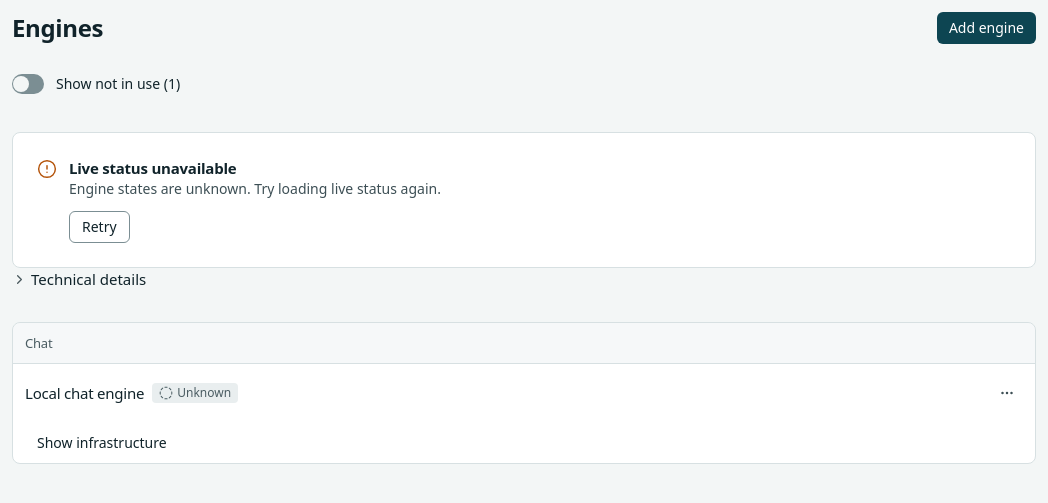
Test: clears the live projection when the status refresh fails
Check: the heading "Live status unavailable" is shown, box 69,158 -> 236,178
Check: the text "Engine states are unknown. Try loading live status again." is shown, box 69,179 -> 441,198
Click the heading "Technical details": point(89, 279) 31,269 -> 146,289
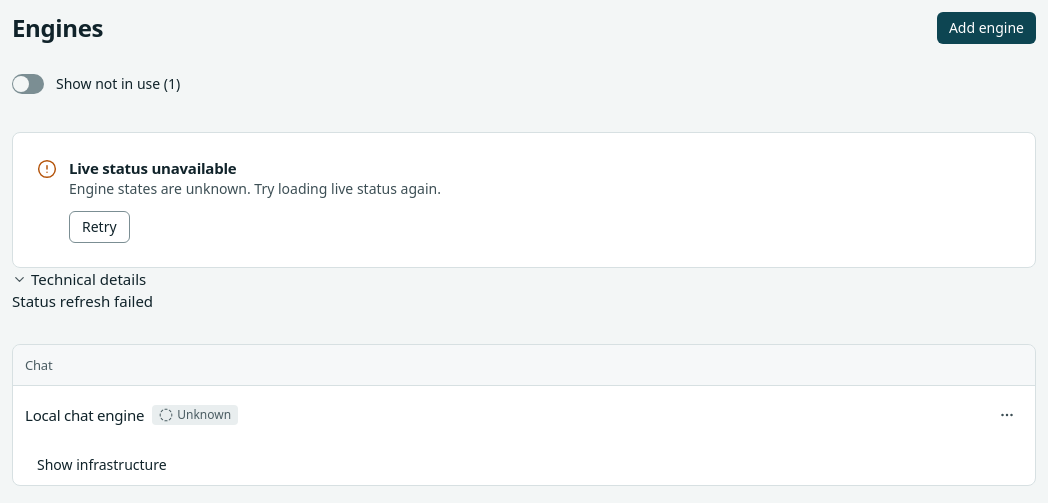
Check: the text "Status refresh failed" is shown, box 12,291 -> 153,311
